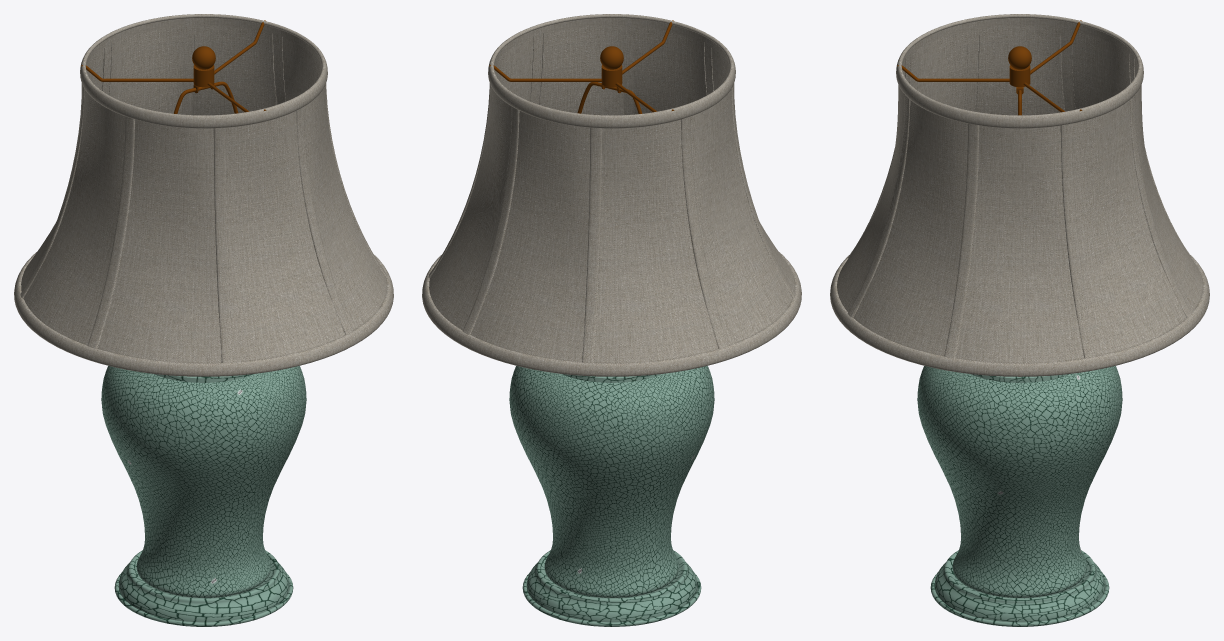
The model's file is lamp.fbx.
The picture shows the model from 3 angles, left to right: view 1: azimuth 30°, elevation 25°; view 2: azimuth 150°, elevation 25°; view 3: azimuth 270°, elevation 25°; orthographic projection.
Visible parts, largest first — view 1: HANA_TABLE_LAMP_OBJ; view 2: HANA_TABLE_LAMP_OBJ; view 3: HANA_TABLE_LAMP_OBJ.
Boxes of the visible parts, bbox=[...] form: HANA_TABLE_LAMP_OBJ: bbox=[14, 14, 393, 626]; HANA_TABLE_LAMP_OBJ: bbox=[422, 14, 801, 626]; HANA_TABLE_LAMP_OBJ: bbox=[830, 14, 1209, 626].
Size of the model in its own units: 4023 by 6339 by 4023.
